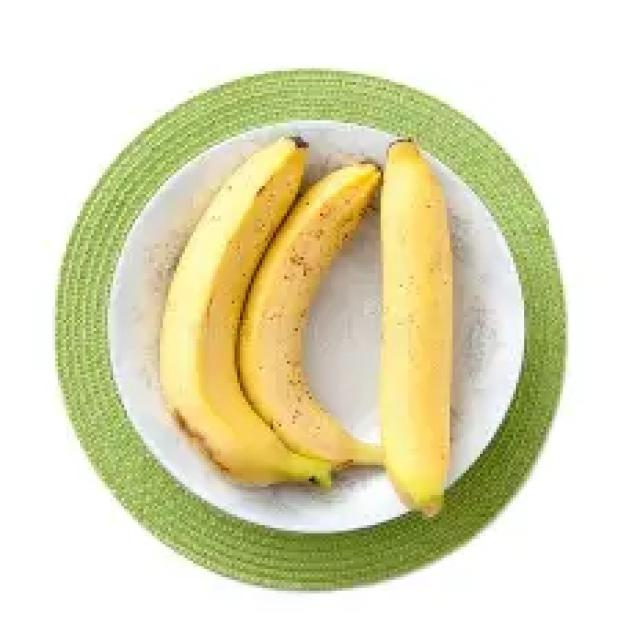BANANA: (150, 130, 458, 523)
